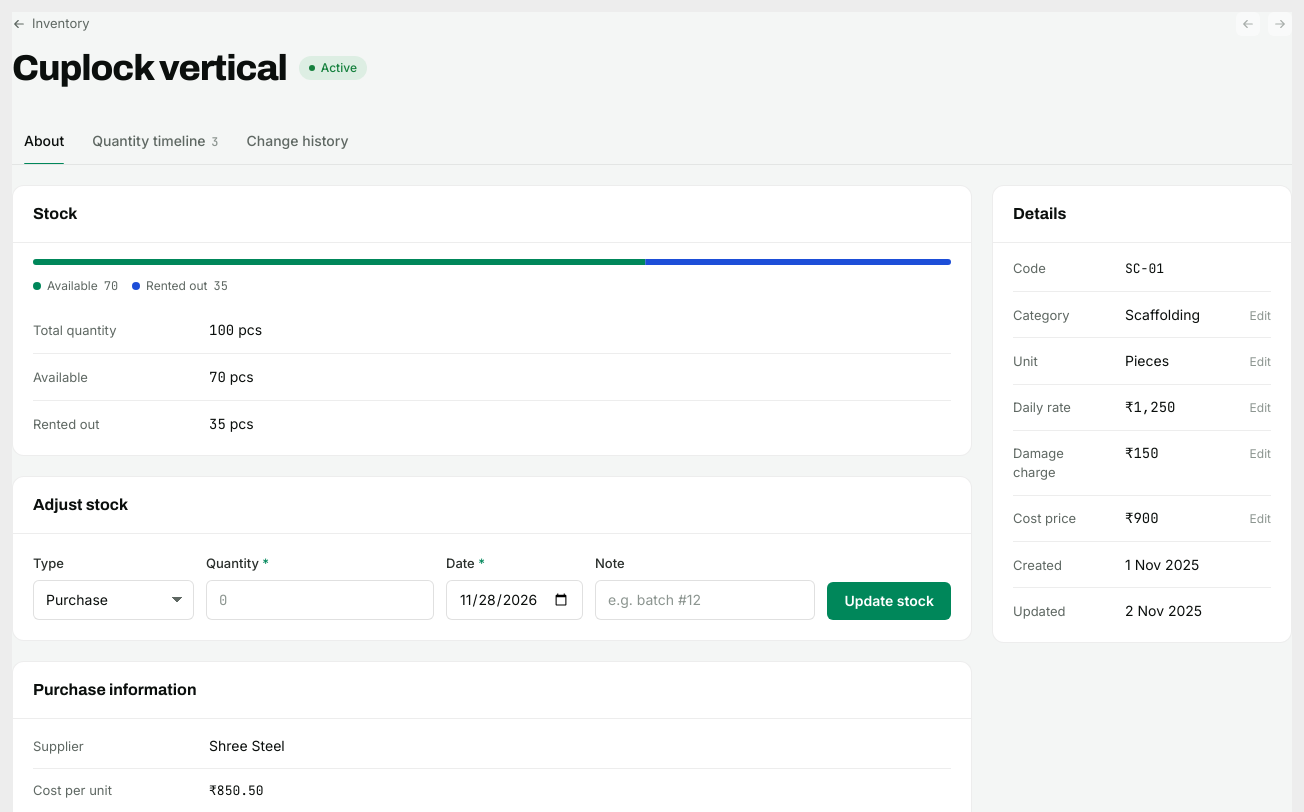
Test case: InventoryDetailPage › cancels an edit with Escape
Click the button "₹150 Edit". click: point(1142, 452)
box: [1117,438,1279,468]
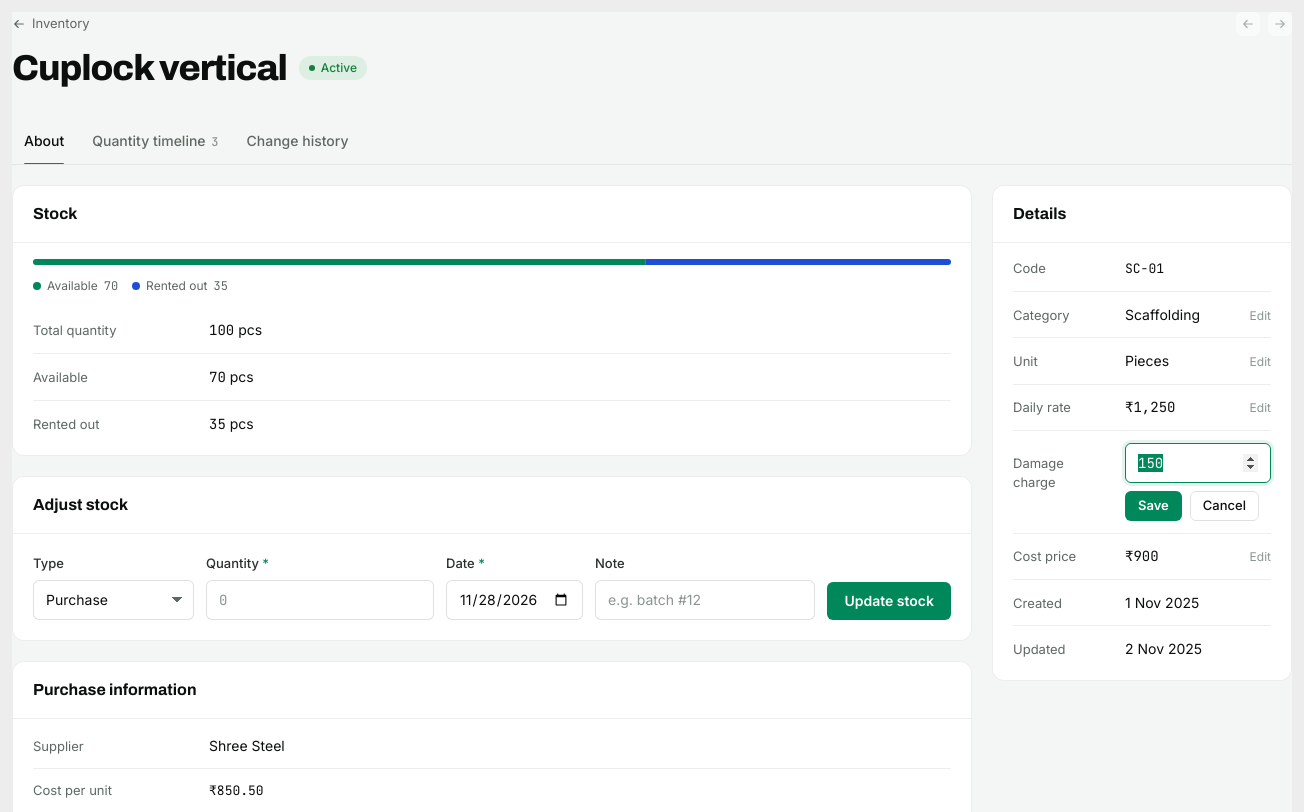
Type "9" into the number field named "Damage charge". click: point(1198, 462)
box: [1125,442,1271,482]
Then press Escape
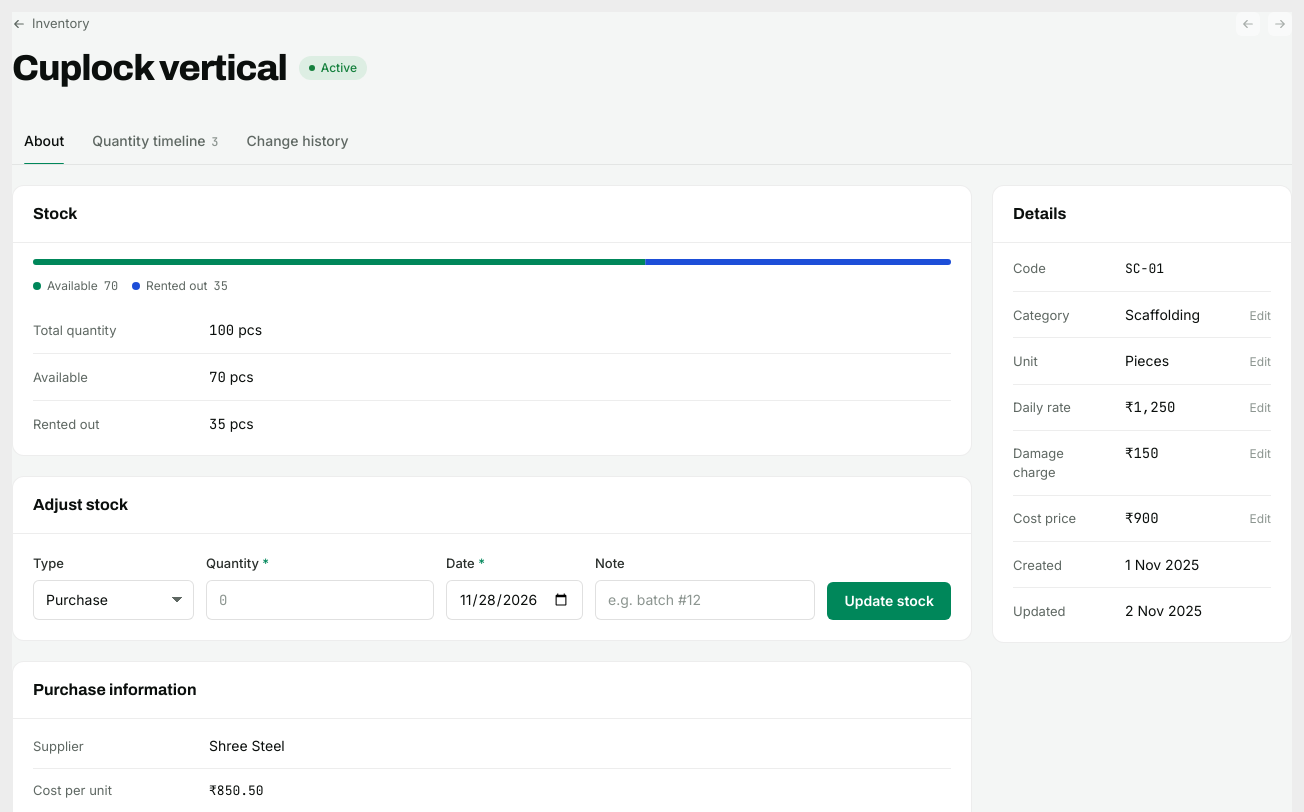
Now the button "₹150 Edit" is shown, box [1117,438,1279,468]
